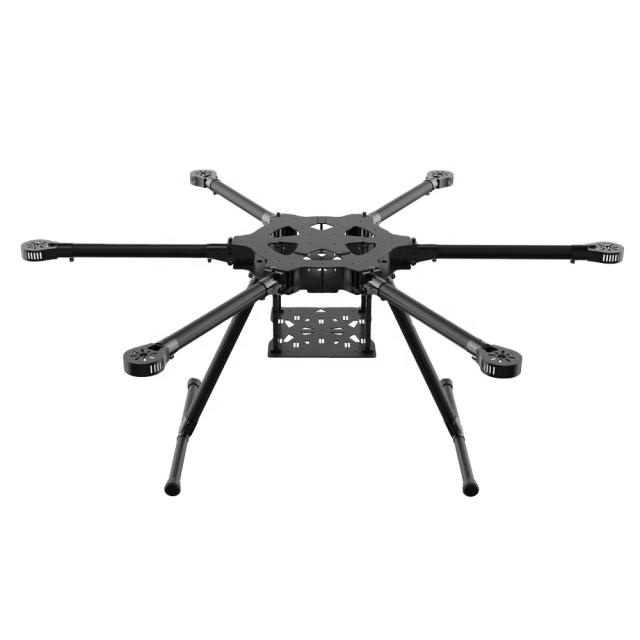drone: (21, 149, 640, 510)
